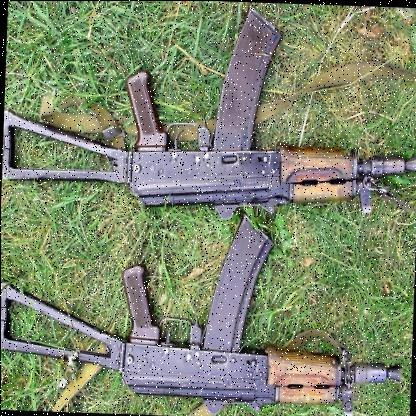rifle: (4, 5, 416, 219), (0, 208, 407, 416)
